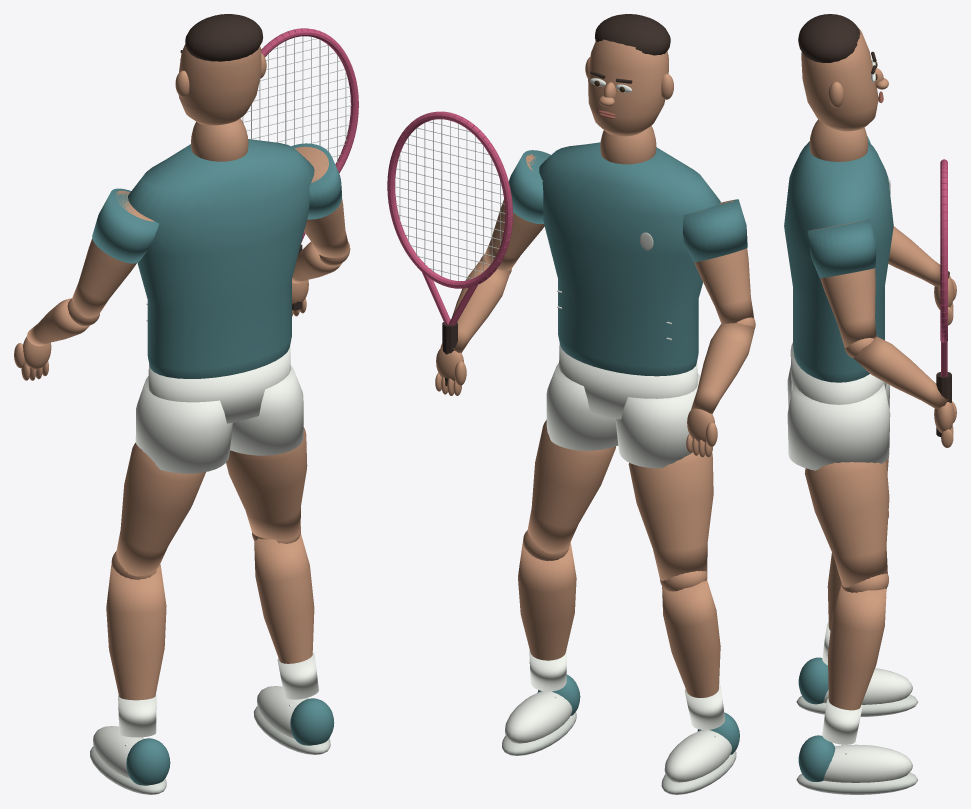
Rendered from club-player.glb.
The picture shows the model from 3 angles, left to right: view 1: azimuth 30°, elevation 25°; view 2: azimuth 150°, elevation 25°; view 3: azimuth 270°, elevation 25°; orthographic projection. The views are drawn at different scales.
Visible parts, largest first — view 1: Tailored jersey, Anatomy, Anatomy.001, Short leg, Anatomy.003, Anatomy.002, Face, Short waistband, Short leg.001, Sleeve.001, Hair crown, Anatomy.006 (+14 smaller); view 2: Tailored jersey, Anatomy, Anatomy.002, Face, Anatomy.003, Anatomy.001, Short leg, Short waistband, Short leg.001, Anatomy.007, Sleeve.001, Anatomy.006 (+12 smaller); view 3: Tailored jersey, Anatomy.002, Short leg.001, Anatomy.003, Face, Sleeve, Anatomy.004, Anatomy.005, Shoe upper.001, Hair crown, Short waistband, Neck (+12 smaller).
Boxes of the visible parts, left/top/right/bottom form: Tailored jersey: left=128, top=139, right=314, bottom=378; Anatomy: left=116, top=442, right=205, bottom=576; Anatomy.001: left=106, top=564, right=166, bottom=700; Short leg: left=135, top=376, right=232, bottom=473; Anatomy.003: left=254, top=533, right=314, bottom=663; Anatomy.002: left=226, top=427, right=307, bottom=540; Face: left=178, top=43, right=261, bottom=125; Short waistband: left=148, top=346, right=290, bottom=423; Short leg.001: left=230, top=365, right=303, bottom=455; Sleeve.001: left=92, top=188, right=158, bottom=263; Hair crown: left=185, top=14, right=263, bottom=61; Anatomy.006: left=72, top=191, right=154, bottom=318; Tailored jersey: left=539, top=142, right=720, bottom=376; Anatomy: left=628, top=452, right=713, bottom=580; Anatomy.002: left=527, top=420, right=615, bottom=553; Face: left=588, top=39, right=668, bottom=136; Anatomy.003: left=518, top=542, right=576, bottom=660; Anatomy.001: left=662, top=580, right=720, bottom=697; Short leg: left=615, top=373, right=700, bottom=468; Short waistband: left=559, top=344, right=697, bottom=419; Short leg.001: left=546, top=363, right=618, bottom=450; Anatomy.007: left=691, top=323, right=754, bottom=413; Sleeve.001: left=683, top=199, right=747, bottom=262; Anatomy.006: left=694, top=200, right=754, bottom=323; Tailored jersey: left=784, top=141, right=893, bottom=382; Anatomy.002: left=804, top=461, right=889, bottom=587; Short leg.001: left=787, top=384, right=890, bottom=470; Anatomy.003: left=827, top=584, right=886, bottom=710; Face: left=801, top=29, right=878, bottom=131; Sleeve: left=807, top=219, right=876, bottom=278; Anatomy.004: left=812, top=220, right=876, bottom=347; Anatomy.005: left=853, top=336, right=948, bottom=408; Shoe upper.001: left=823, top=744, right=912, bottom=782; Hair crown: left=798, top=14, right=860, bottom=62; Short waistband: left=790, top=342, right=886, bottom=404; Neck: left=809, top=119, right=868, bottom=161.
Size of the model in its own units: 0.872 by 1.84 by 0.394.
